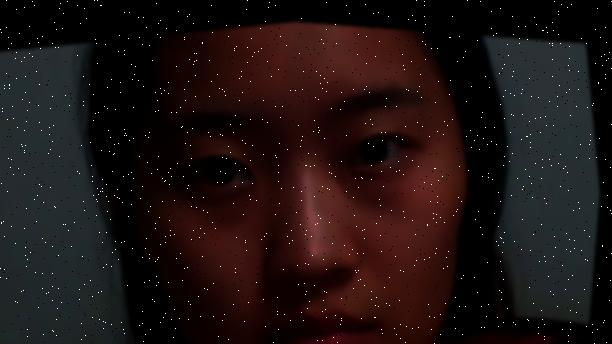eye: (206, 147, 244, 186), (358, 124, 394, 162)
iris: (191, 146, 257, 188), (348, 123, 407, 164)
